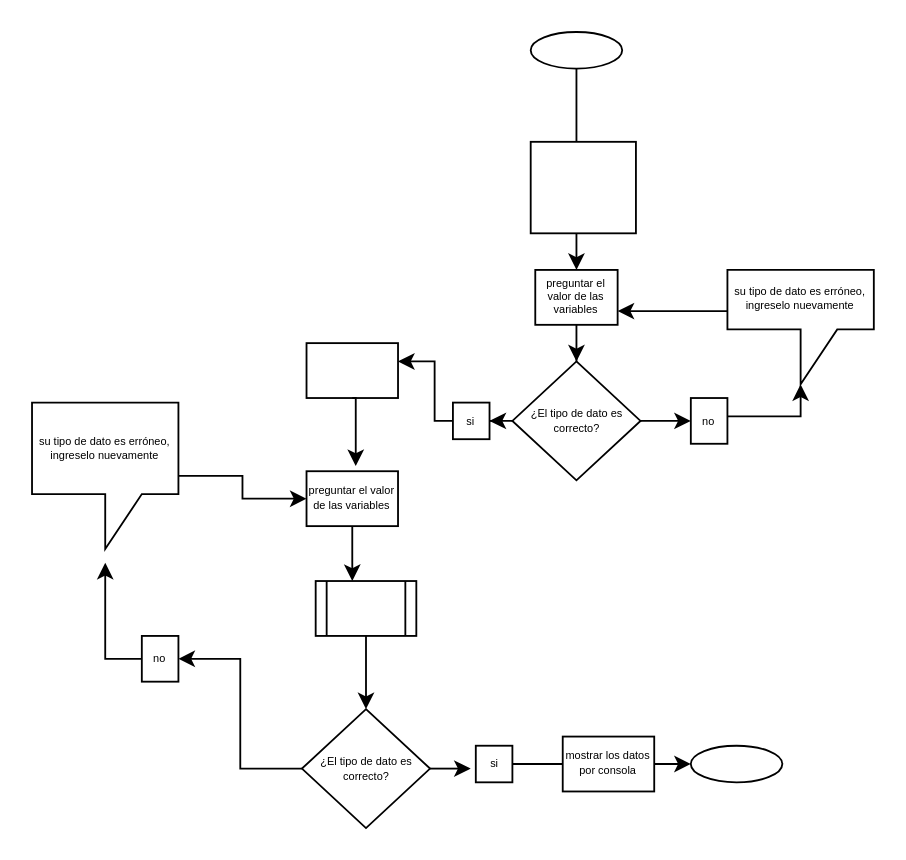
The diagram is 906 pixels wide and 860 high, and some of its shapes have lost their labels. Here are the shapes that lost their labels. From the top down, the centre of each, then its label:
At point (575, 49): "inicio".
At point (582, 186): "crear variable producto cantidad precio".
At point (351, 369): "crear variable costo total".
At point (365, 607): "procesa los datos".
At point (735, 763): "Fin".
